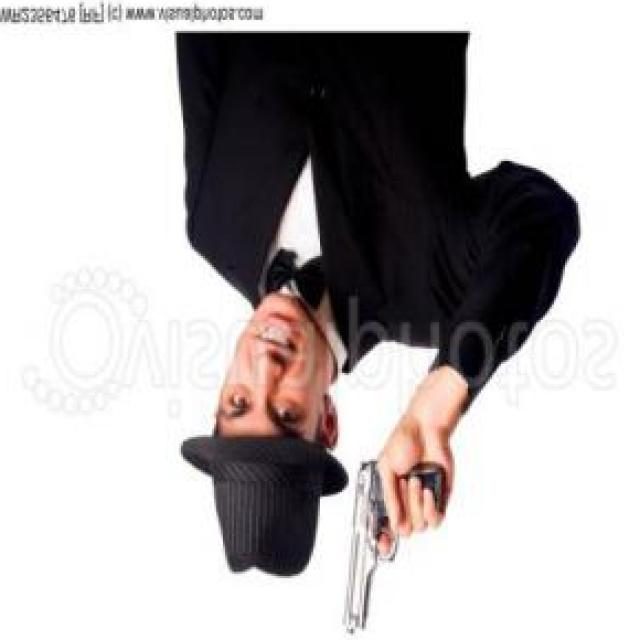pistol: (344, 452, 446, 636)
